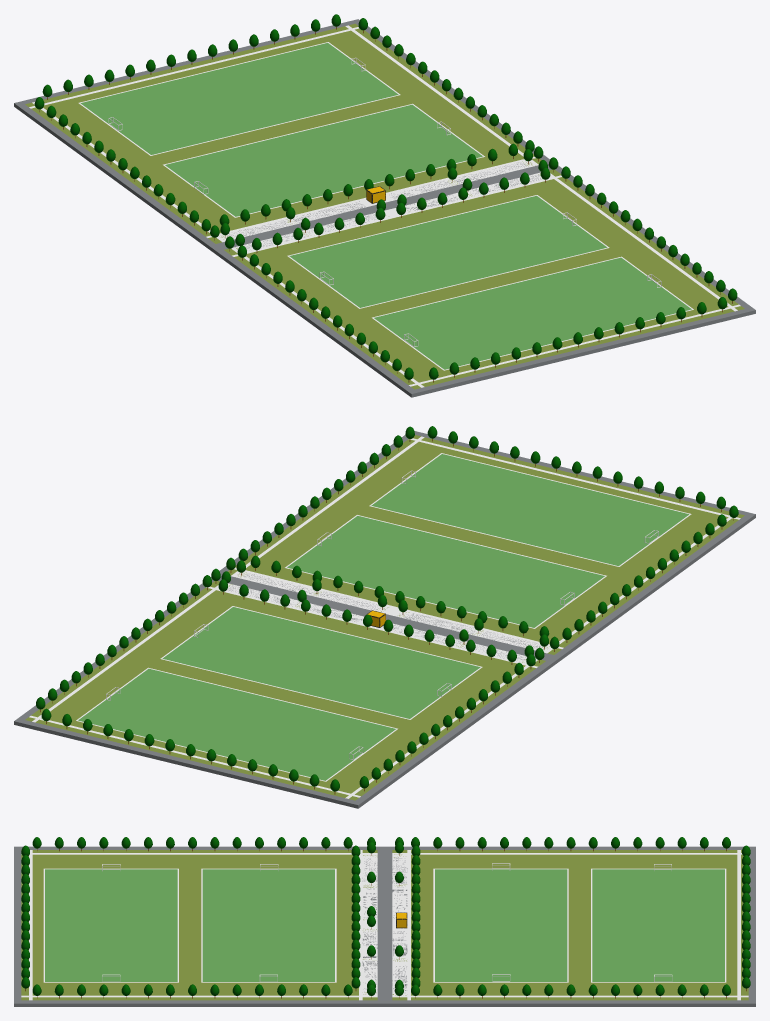
Rendered from soccer.dae.
3 renders of one model, top to bottom at view 1: azimuth 30°, elevation 25°; view 2: azimuth 150°, elevation 25°; view 3: azimuth 270°, elevation 25°, orthographic. The views are drawn at different scales.
Visible parts, largest first — view 1: Component_13 (×11), Component_14 (×11); view 2: Component_13 (×11), Component_14 (×11); view 3: Component_13 (×14), Component_14 (×14).
Part boxes in pixels (x1,y1,x2,y2): Component_13 (×11): (209,163,755,397); Component_14 (×11): (14,19,549,248); Component_13 (×11): (210,431,755,665); Component_14 (×11): (14,579,553,808); Component_13 (×14): (14,846,392,1006); Component_14 (×14): (392,846,755,1006).
Bounding box in the file's own units: 102 × 204 × 5.22.
